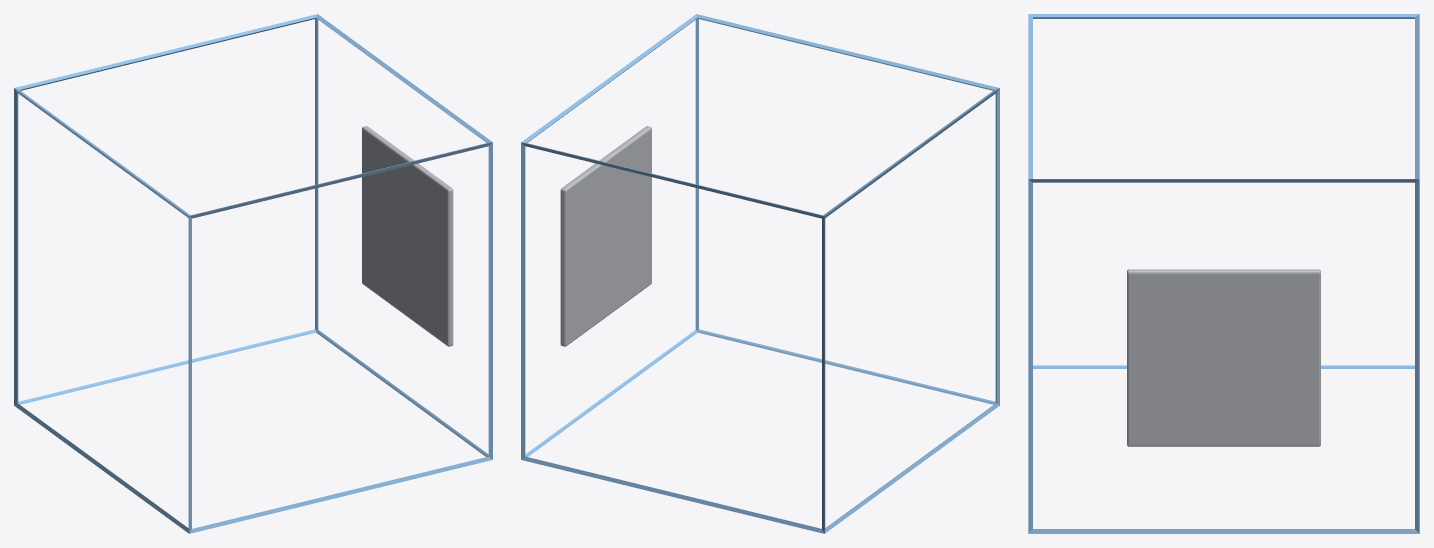
Rendered from gas-container.glb.
3 renders of one model, left to right at view 1: azimuth 30°, elevation 25°; view 2: azimuth 150°, elevation 25°; view 3: azimuth 270°, elevation 25°, orthographic. The views are drawn at different scales.
Parts seen in each view (by area): view 1: GasBox, Piston; view 2: GasBox, Piston; view 3: Piston, GasBox.
Boxes of the visible parts, left/top/right/bottom form: GasBox: left=14, top=14, right=492, bottom=533; Piston: left=362, top=126, right=453, bottom=346; GasBox: left=521, top=14, right=999, bottom=533; Piston: left=560, top=126, right=651, bottom=346; Piston: left=1127, top=269, right=1320, bottom=446; GasBox: left=1028, top=14, right=1419, bottom=533.
Bounding box in the file's own units: 4.11 × 4.03 × 4.03.
